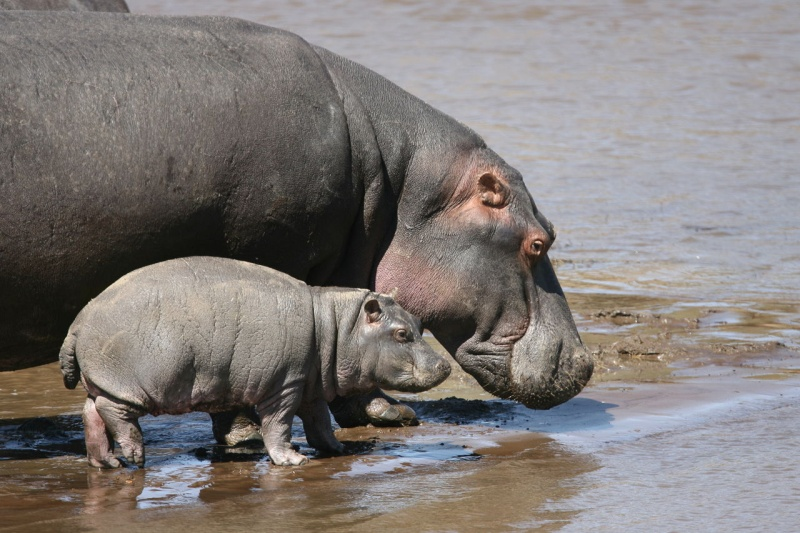hipopotamo: (16, 2, 594, 417), (57, 251, 451, 495)
